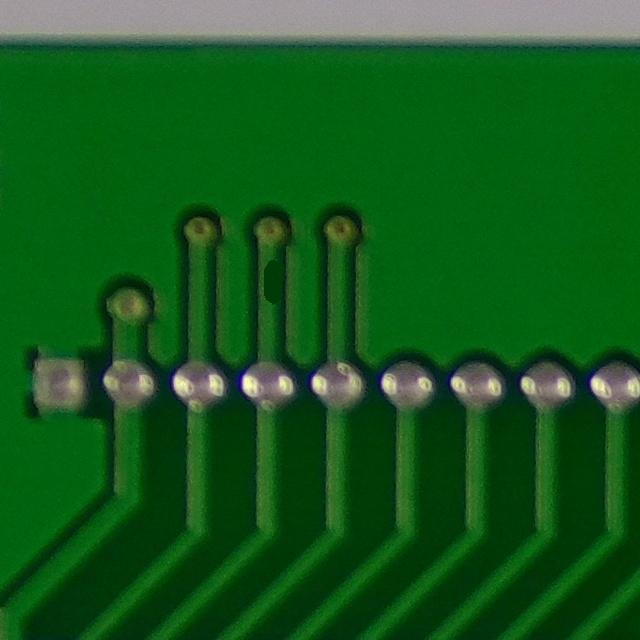mouse_bite: (252, 253, 291, 322)
